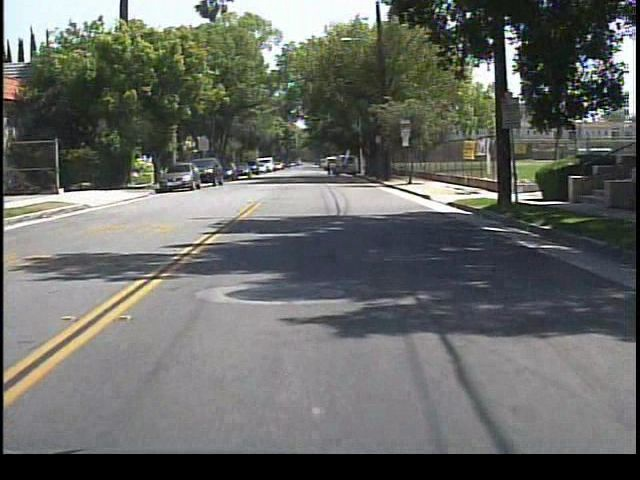person: (321, 156, 336, 181)
